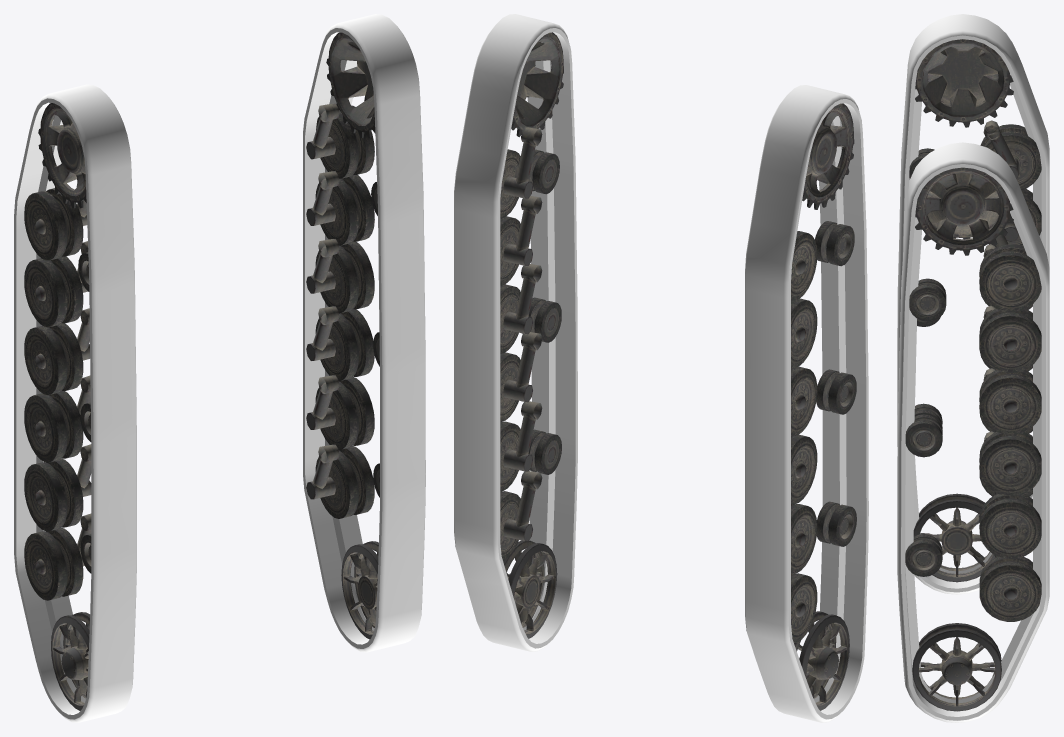
The model's file is Chassis.glb.
The picture shows the model from 3 angles, left to right: view 1: azimuth 30°, elevation 25°; view 2: azimuth 150°, elevation 25°; view 3: azimuth 270°, elevation 25°; orthographic projection. The views are drawn at different scales.
Parts seen in each view (by area): view 1: set_1_group_0, set_0_group_0, set_2_group_0, set_3_group_0; view 2: set_1_group_0, set_0_group_0, set_3_group_0, set_2_group_0; view 3: set_3_group_0, set_0_group_0, set_2_group_0, set_1_group_0.
Boxes of the visible parts, <box> form: set_1_group_0: <box>14,84,136,722</box>; set_0_group_0: <box>303,14,425,652</box>; set_2_group_0: <box>24,103,91,710</box>; set_3_group_0: <box>306,32,379,639</box>; set_1_group_0: <box>745,85,868,722</box>; set_0_group_0: <box>454,14,577,651</box>; set_3_group_0: <box>500,32,563,638</box>; set_2_group_0: <box>791,103,856,710</box>; set_3_group_0: <box>905,167,1041,711</box>; set_0_group_0: <box>897,142,1049,722</box>; set_2_group_0: <box>909,39,1041,582</box>; set_1_group_0: <box>897,14,1049,594</box>.
Bounding box in the file's own units: 2.89 × 5.14 × 1.26.
4 materials, 2 textured.
